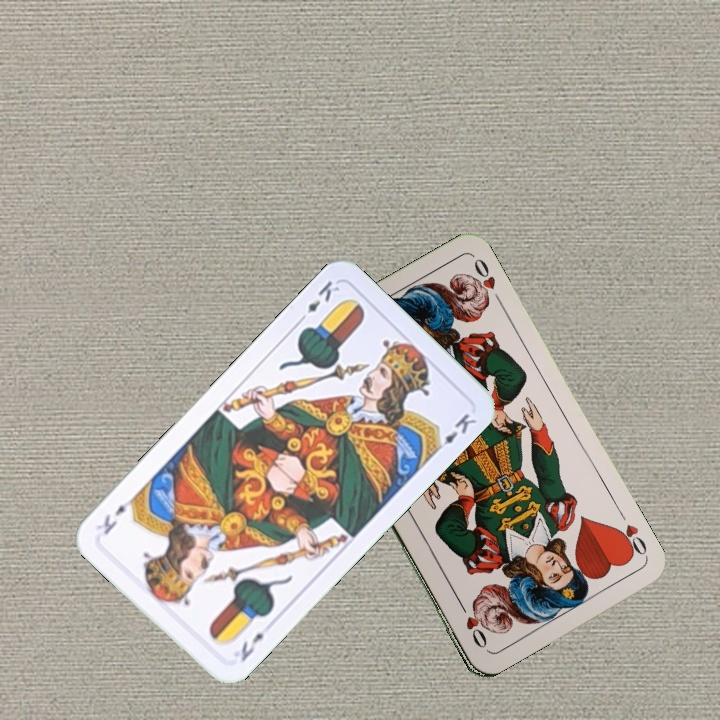EK: (293, 276, 343, 326), (236, 628, 267, 665)
HO: (610, 520, 650, 561)
